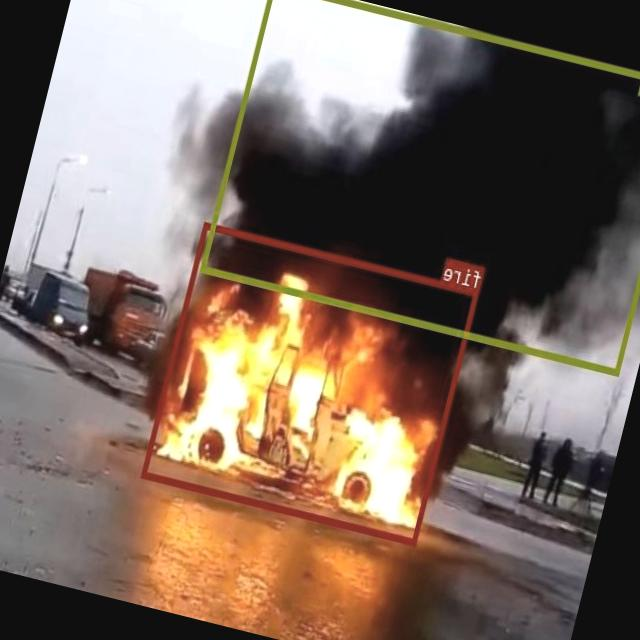fire: (142, 221, 480, 544)
smoke: (200, 0, 640, 375)
